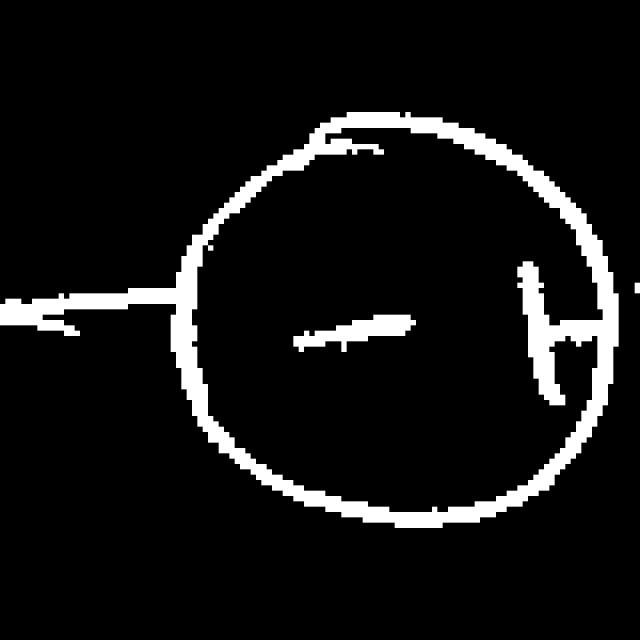voltage_source: (165, 99, 625, 532)
